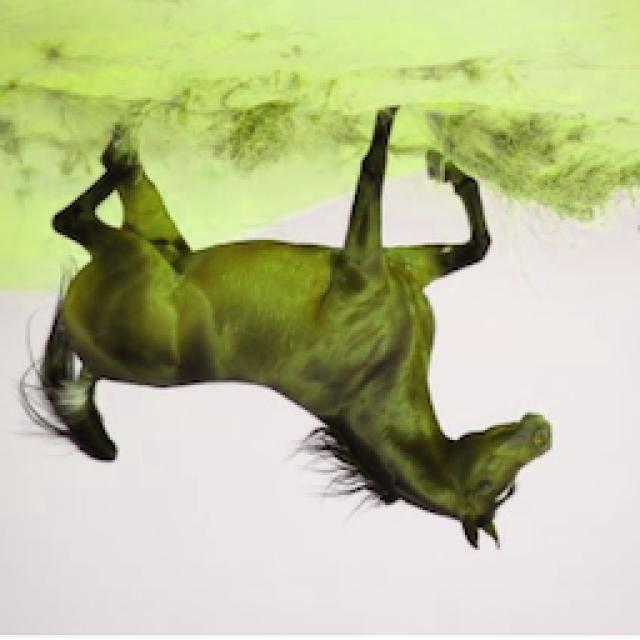Horse: (12, 102, 558, 556)
